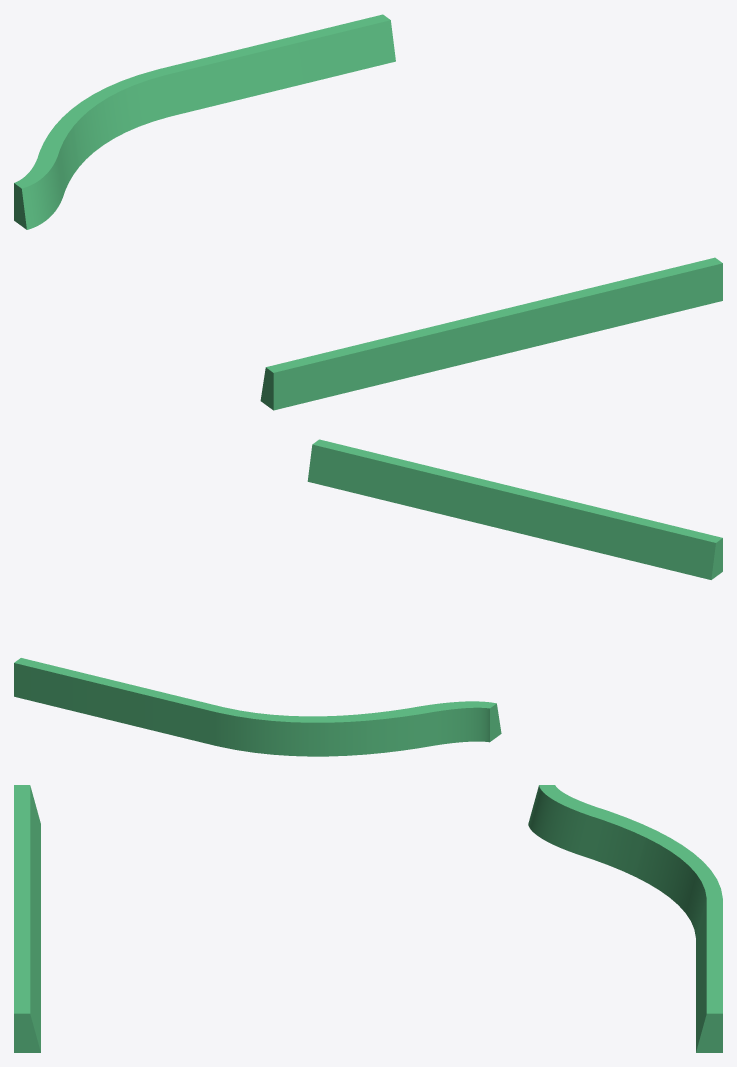
The model's file is road_side_exit_barrier.glb.
The picture shows the model from 3 angles, top to bottom: view 1: azimuth 30°, elevation 25°; view 2: azimuth 150°, elevation 25°; view 3: azimuth 270°, elevation 25°; orthographic projection. The views are drawn at different scales.
Visible parts, largest first — view 1: road-side-exit-barrier; view 2: road-side-exit-barrier; view 3: road-side-exit-barrier.
Part boxes in pixels (x1=…): road-side-exit-barrier: x1=14, y1=14, x2=722, y2=410; road-side-exit-barrier: x1=14, y1=439, x2=722, y2=756; road-side-exit-barrier: x1=14, y1=785, x2=722, y2=1052.
Bounding box in the file's own units: 1 × 0.08 × 1.31.
1 material, 1 textured.
